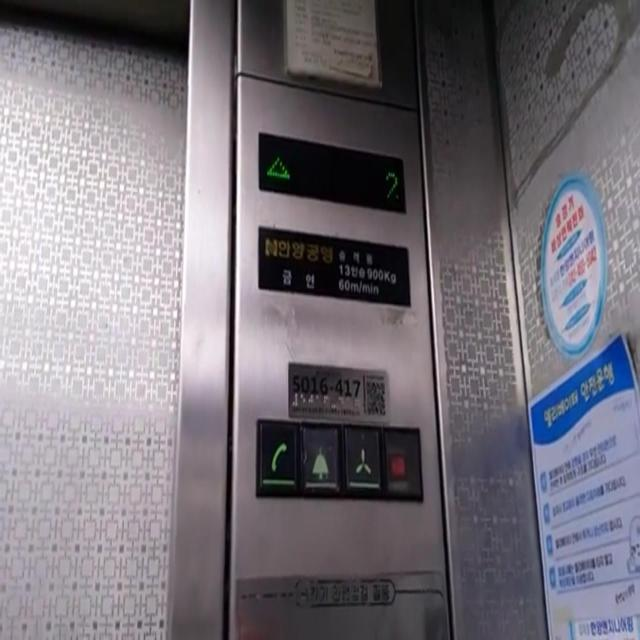alarm: (298, 417, 342, 499)
bt_switch: (382, 422, 424, 500)
call: (254, 416, 298, 498)
fan: (341, 422, 383, 500)
led: (256, 127, 408, 216)
